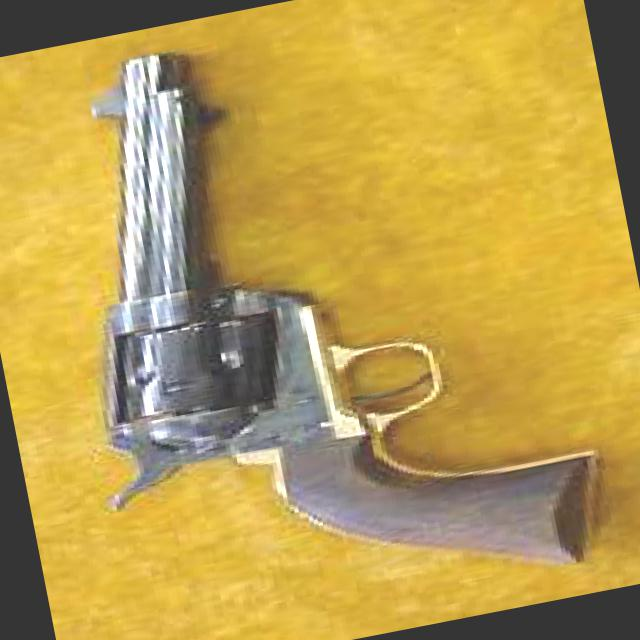handgun: (11, 0, 608, 639)
